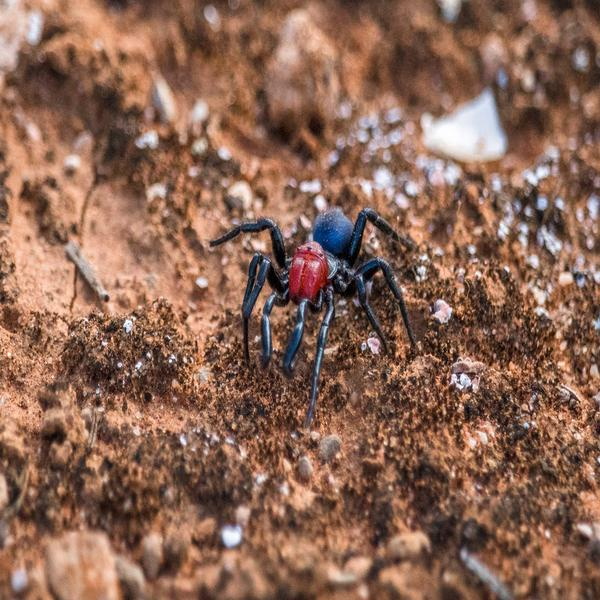Red Headed Mouse Spider: (217, 208, 417, 409)
